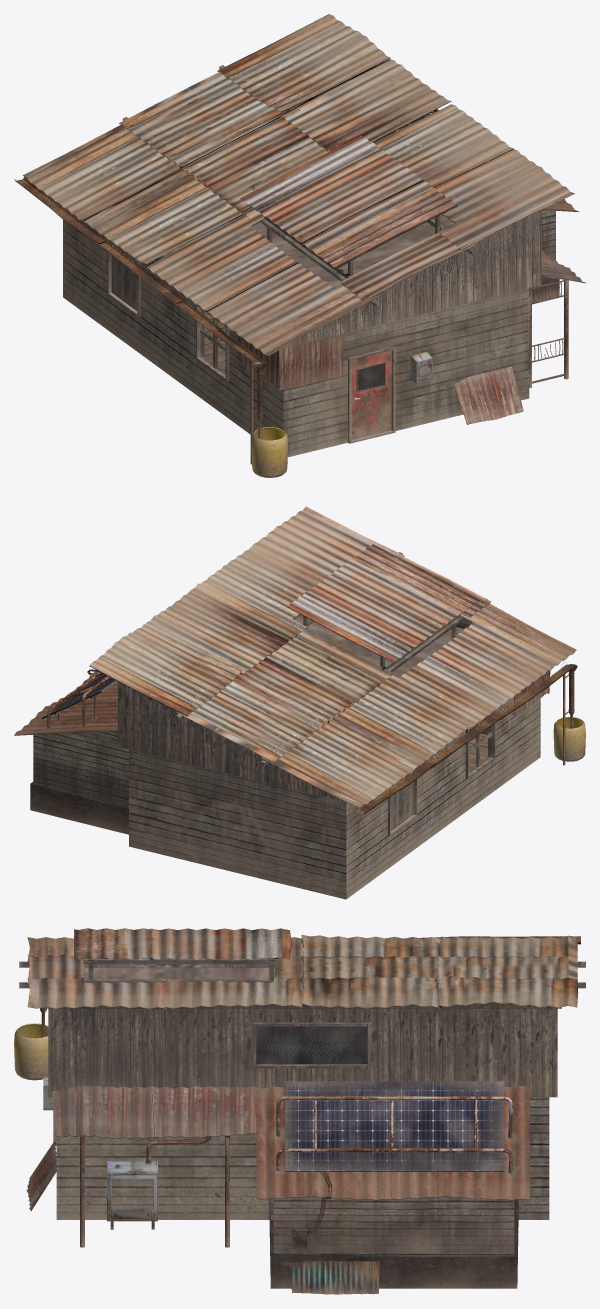
File: stash_house.glb
3 renders of one model, top to bottom at view 1: azimuth 30°, elevation 25°; view 2: azimuth 150°, elevation 25°; view 3: azimuth 270°, elevation 25°, orthographic. The views are drawn at different scales.
Visible parts, largest first — view 1: Object_40, Object_4, Object_38, Object_56, Object_6, Object_24; view 2: Object_40, Object_4, Object_38, Object_56, Object_6, Object_24; view 3: Object_40, Object_38, Object_4, Object_6, Object_56.
Part boxes in pixels (left/top/right/bottom): Object_40: left=23, top=14, right=585, bottom=355; Object_4: left=63, top=209, right=559, bottom=457; Object_38: left=93, top=65, right=541, bottom=390; Object_56: left=14, top=177, right=568, bottom=477; Object_6: left=107, top=109, right=438, bottom=443; Object_24: left=201, top=309, right=225, bottom=374; Object_40: left=14, top=506, right=576, bottom=808; Object_4: left=30, top=696, right=540, bottom=899; Object_38: left=118, top=552, right=550, bottom=802; Object_56: left=87, top=660, right=585, bottom=815; Object_6: left=42, top=672, right=495, bottom=835; Object_24: left=469, top=715, right=490, bottom=772; Object_40: left=27, top=928, right=578, bottom=1200; Object_38: left=19, top=947, right=585, bottom=1097; Object_4: left=56, top=1097, right=549, bottom=1288; Object_6: left=53, top=1022, right=512, bottom=1220; Object_56: left=14, top=936, right=580, bottom=1294.
Size of the model in its own units: 10.36 by 4.89 by 10.67.
Materials: 7 (5 with a texture image).
